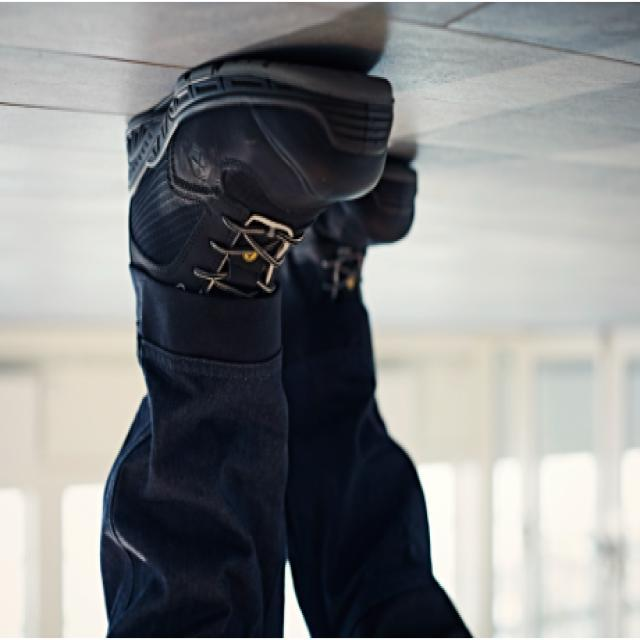shoes: (120, 58, 421, 391)
